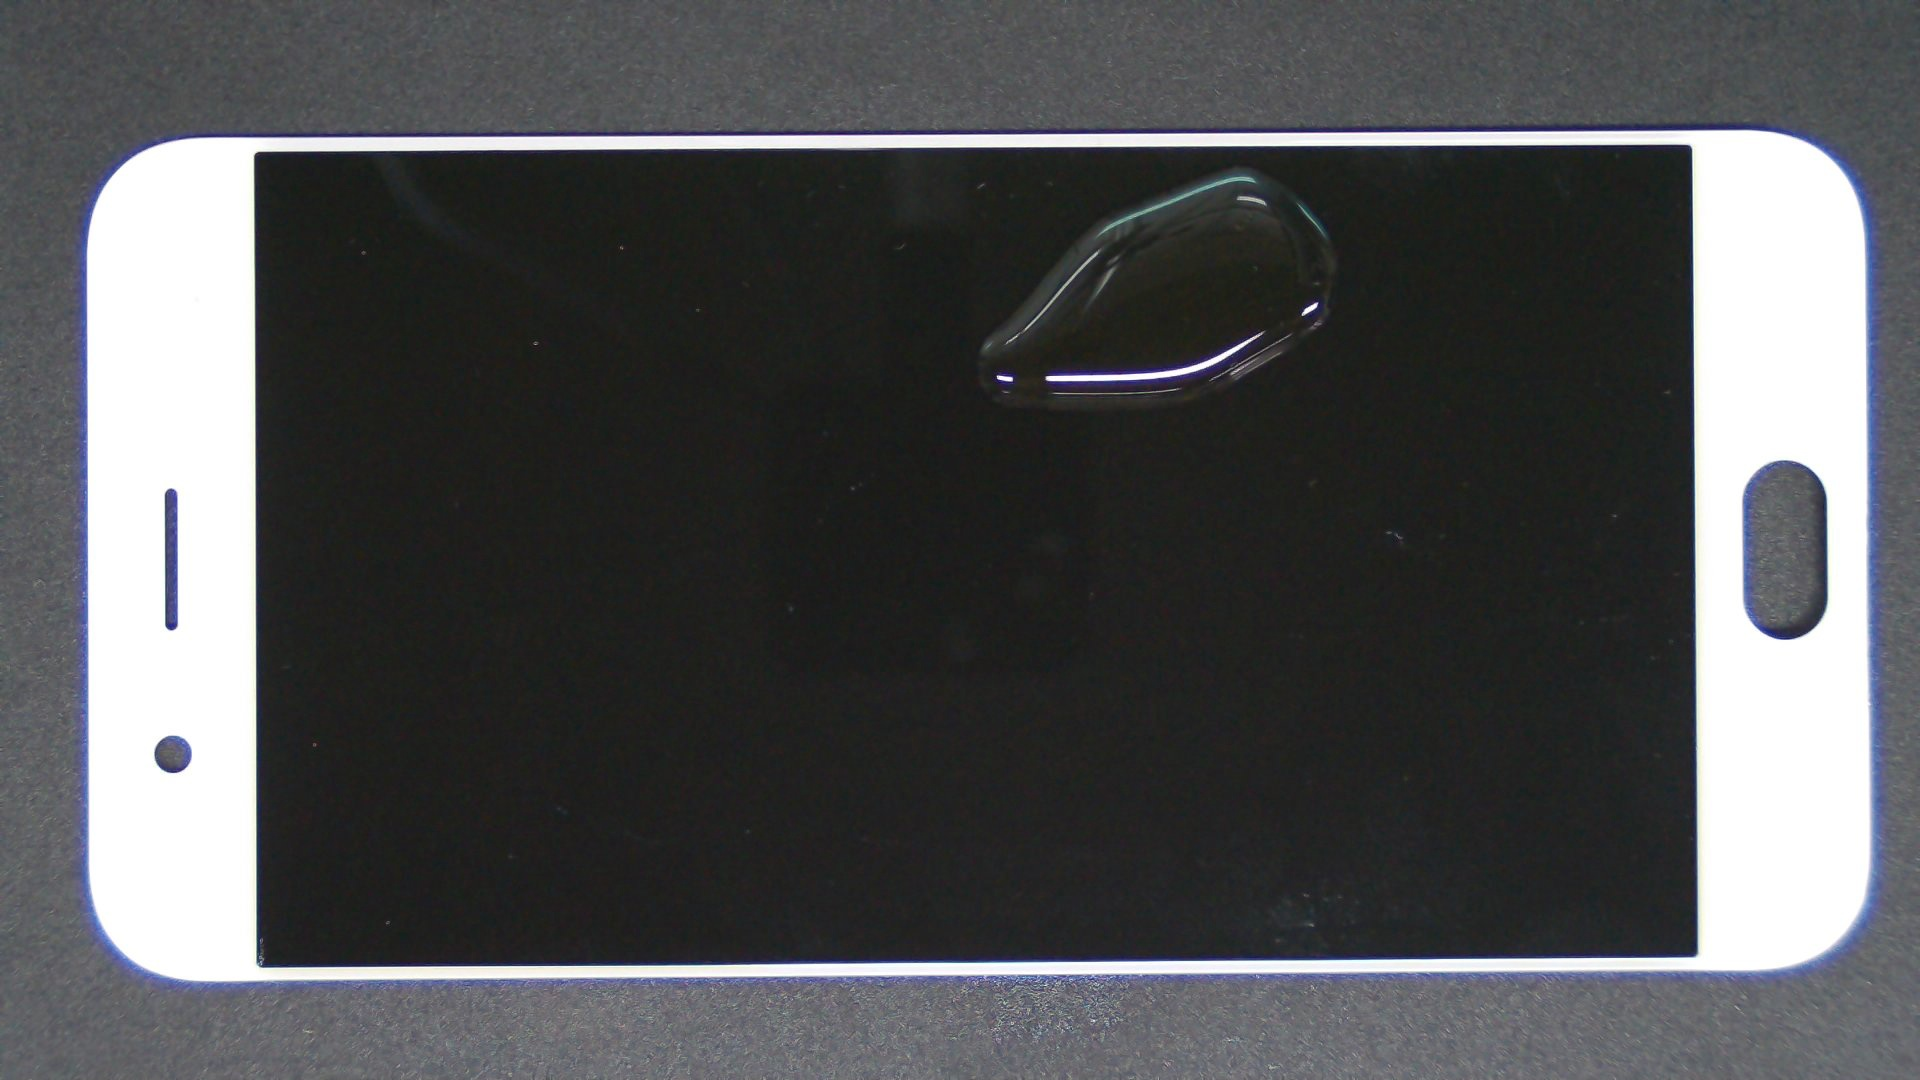oil: (617, 83, 1850, 249)
